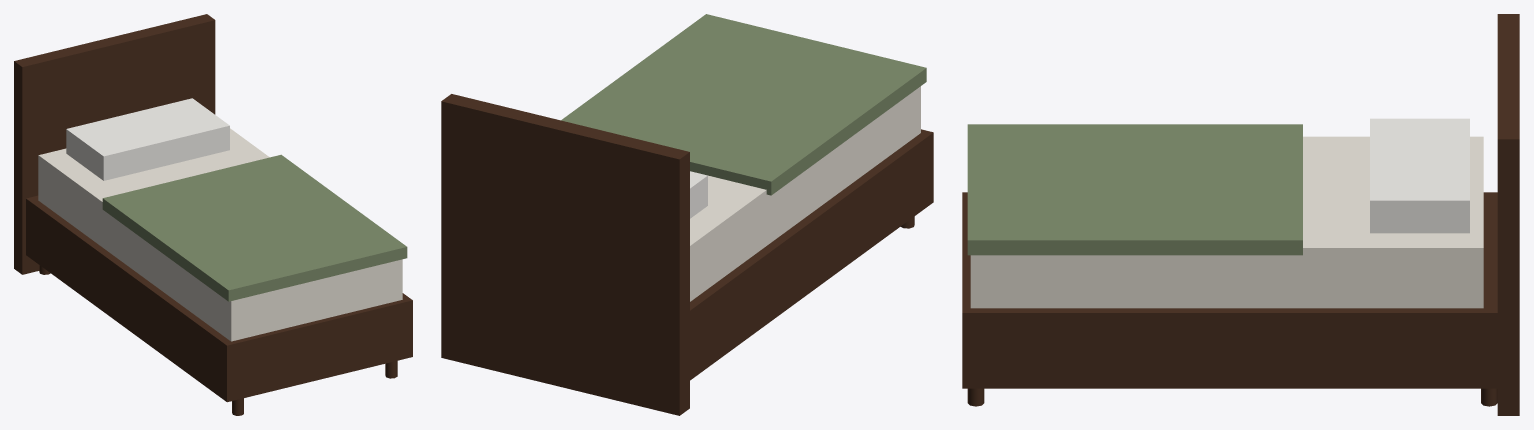
The model's file is twinBed.glb.
3 views of the same model, side by side, from view 1: azimuth 30°, elevation 25°; view 2: azimuth 150°, elevation 25°; view 3: azimuth 270°, elevation 25° (orthographic). The views are drawn at different scales.
Parts seen in each view (by area): view 1: twinBed; view 2: twinBed; view 3: twinBed.
Boxes of the visible parts, box(x1,y1,x2,y2) form: twinBed: box(14, 14, 412, 415); twinBed: box(441, 14, 933, 415); twinBed: box(962, 14, 1519, 415).
Size of the model in its own units: 1.07 by 1.1 by 2.01.
